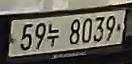0: (81, 17, 93, 45)
3: (93, 16, 106, 42)
5: (19, 23, 34, 52)
8: (68, 17, 81, 47)
9: (34, 21, 47, 51), (105, 14, 117, 42)
누: (47, 21, 61, 49)
